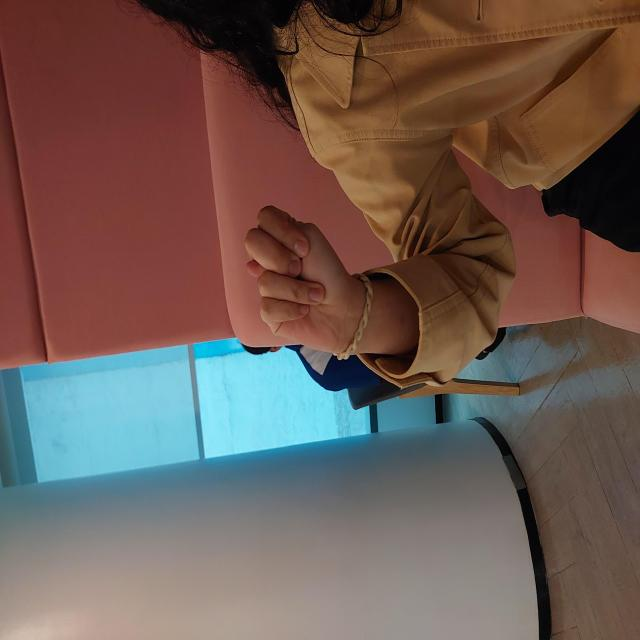N: (278, 236, 444, 361)
